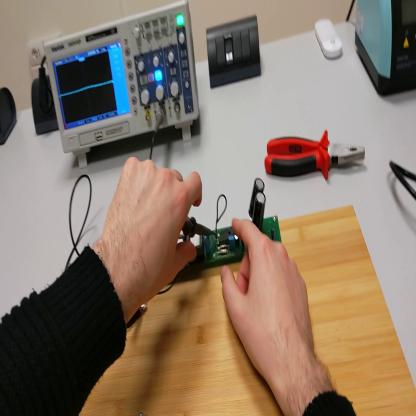hand: (221, 215, 318, 391), (102, 158, 200, 308)
high voltage board: (165, 177, 284, 285)
oscilloscope: (47, 3, 202, 168)
oscilloscope probe tip: (181, 216, 216, 238)
pliers: (263, 131, 369, 185)
socket: (31, 74, 61, 135), (2, 82, 17, 149)
welder station: (357, 2, 416, 102)
working area: (78, 208, 416, 415)
